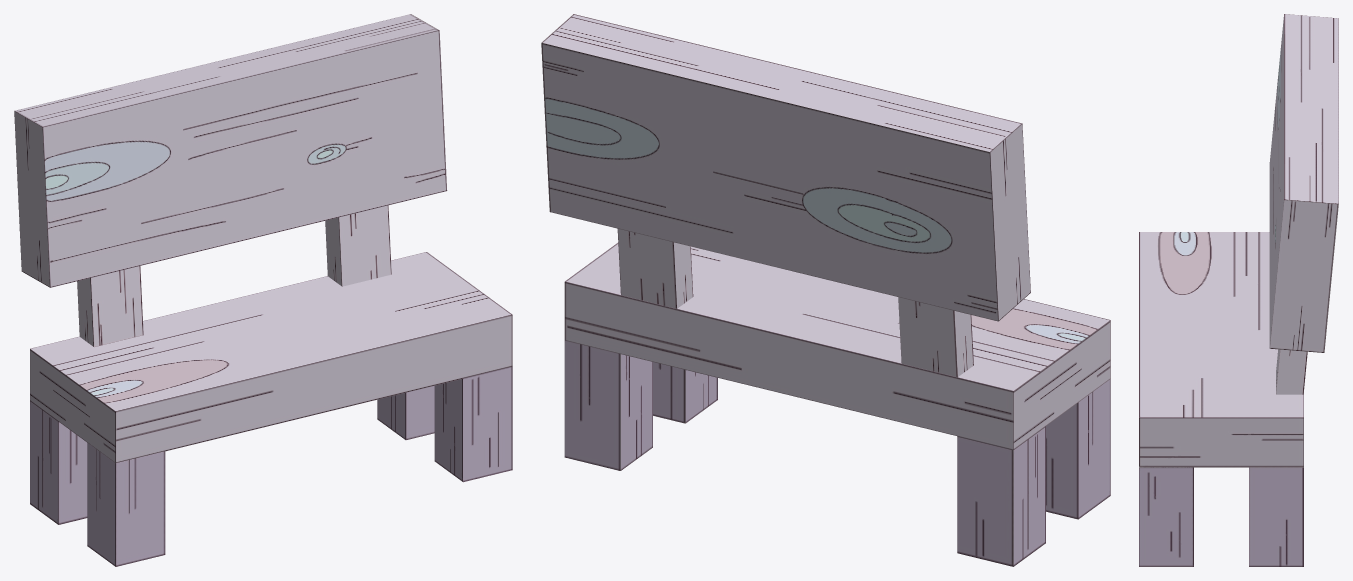
The model's file is chair_purple.fbx.
The picture shows the model from 3 angles, left to right: view 1: azimuth 30°, elevation 25°; view 2: azimuth 150°, elevation 25°; view 3: azimuth 270°, elevation 25°; orthographic projection. The views are drawn at different scales.
Visible parts, largest first — view 1: Box001, Box004; view 2: Box001, Box004; view 3: Box004, Box001.
Boxes of the visible parts, x1,y1,x2,y2 form: Box001: (14,14,447,346); Box004: (30,252,512,566); Box001: (541,14,1030,377); Box004: (564,242,1110,566); Box004: (1139,232,1303,566); Box001: (1269,14,1338,394).
Size of the model in its own units: 322 by 296 by 145.
